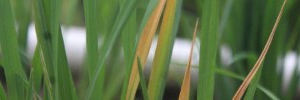RiceTungro: (125, 1, 176, 100), (179, 18, 202, 100)
